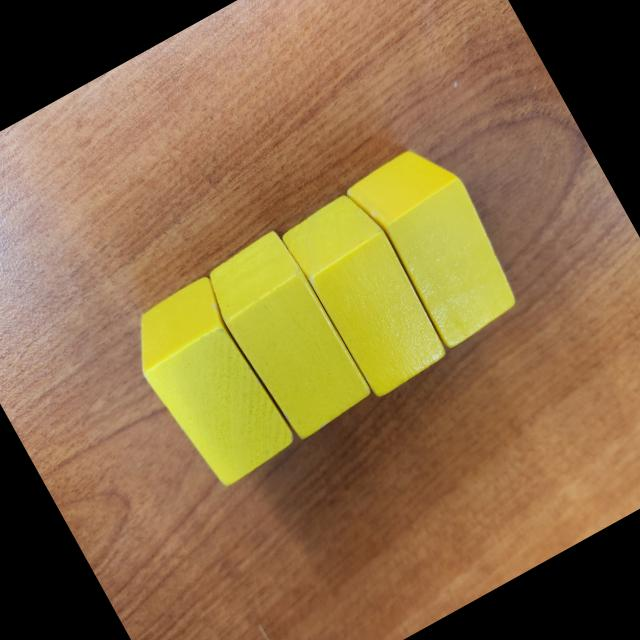yellow: (116, 273, 306, 499), (340, 134, 531, 358), (277, 184, 457, 404), (196, 226, 376, 444)
